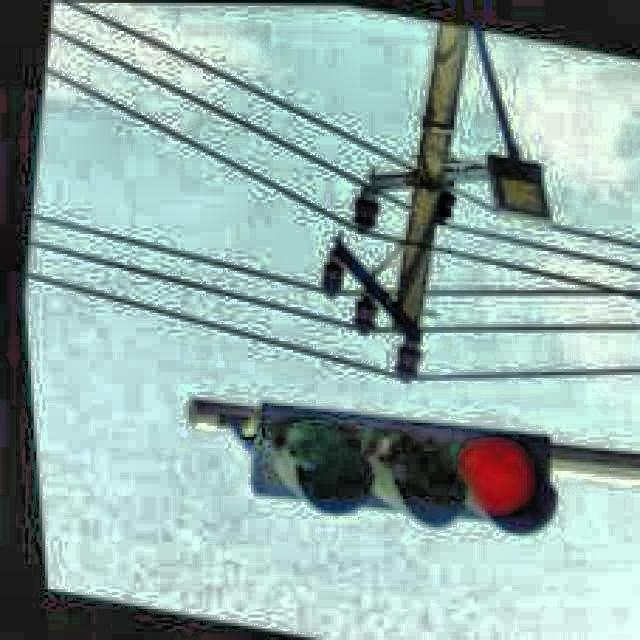red: (250, 405, 560, 533)
